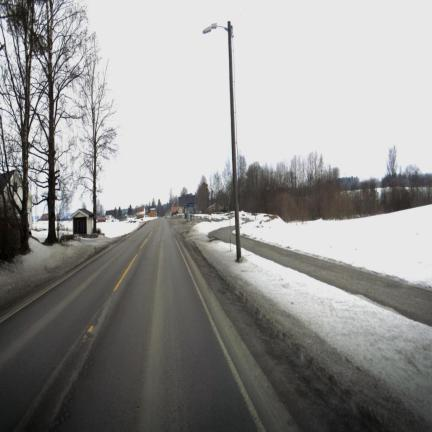Road: (0, 219, 297, 430)
